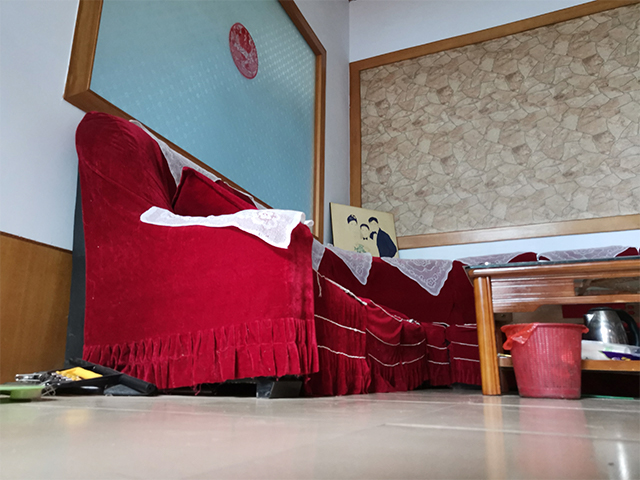sofa: (73, 110, 483, 399)
table: (462, 254, 640, 399)
trashcan: (499, 322, 591, 401)
